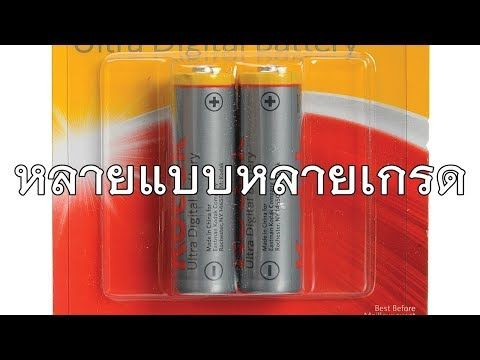Battery: (168, 63, 238, 296), (236, 63, 305, 294)
